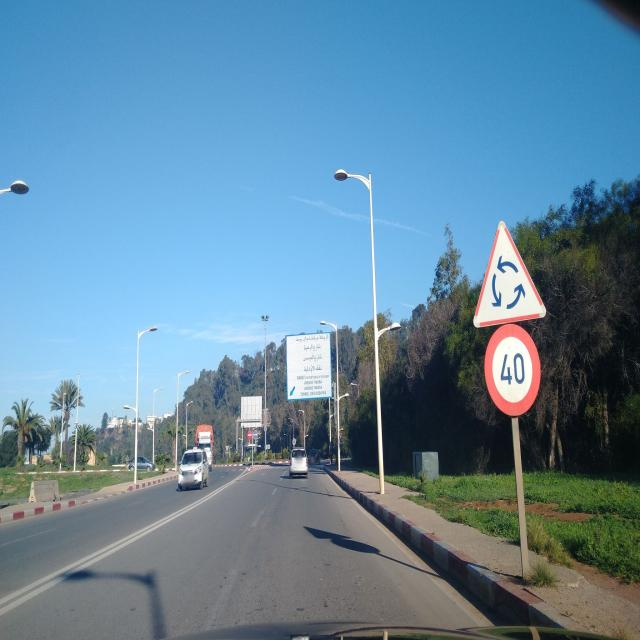car: (177, 447, 209, 491), (289, 447, 308, 478), (126, 454, 153, 470)
